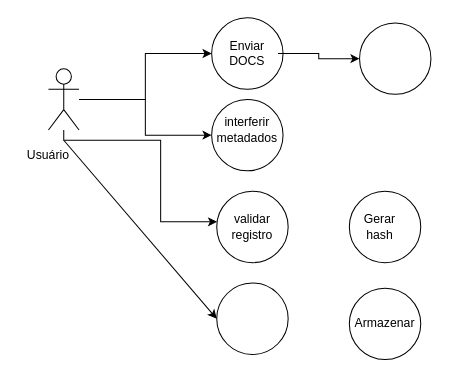
Image size: 449x377. Some labels were removed from this diagram. The centre of each missing label's shape, as x and y in pixels:
"consultar histórico" goes at (252,318).
"Extrair dados" goes at (395,58).
